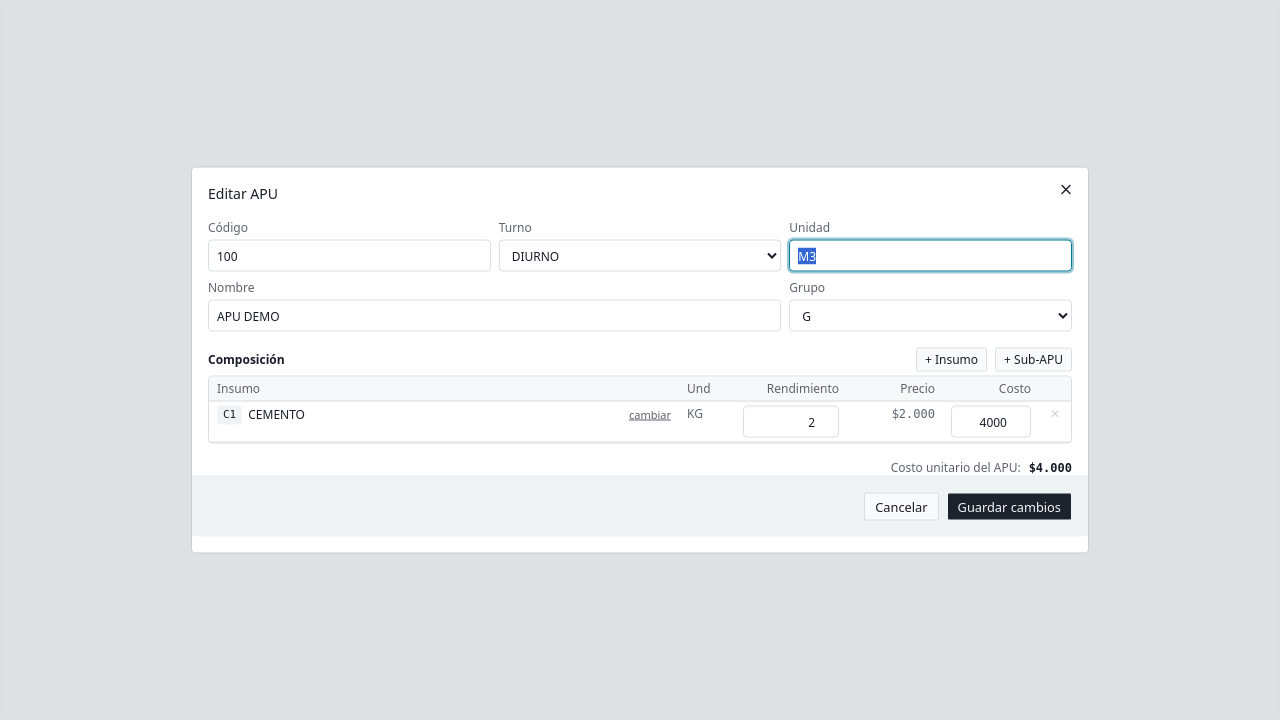
Test: editar el rendimiento actualiza el costo mostrado (rend 5 → costo 10000)
Replace the text in the number field named "Rendimiento" with "5": (791, 422) [743,406,839,438]
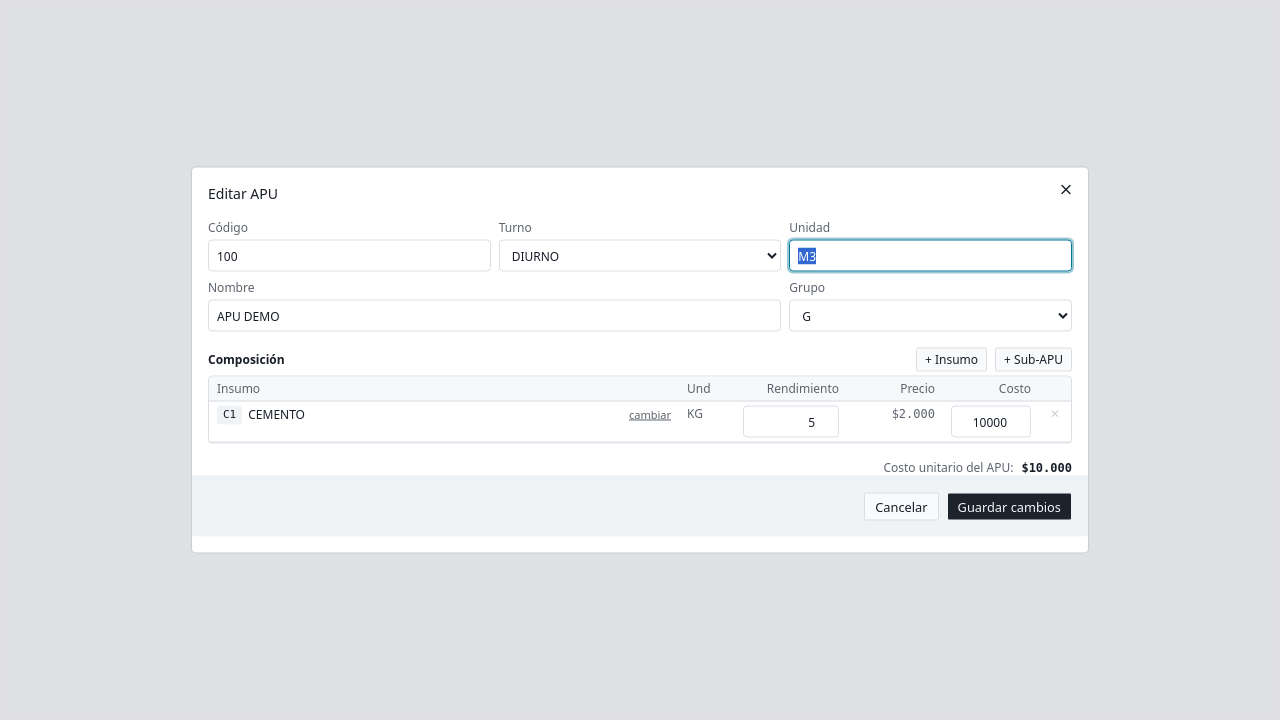
Expected: the number field named "Costo" holds "10000", [951,406,1031,438]
